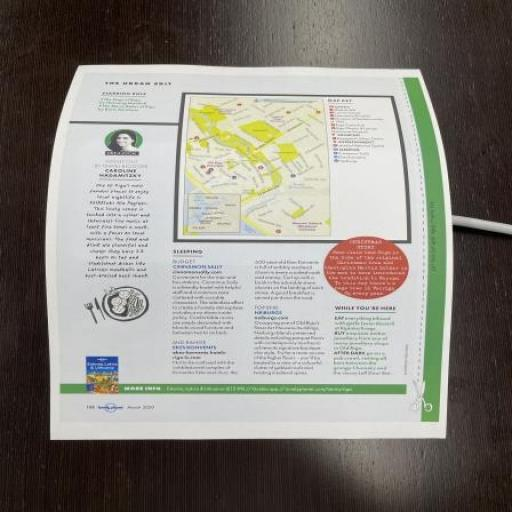paper: (15, 20, 490, 501)
